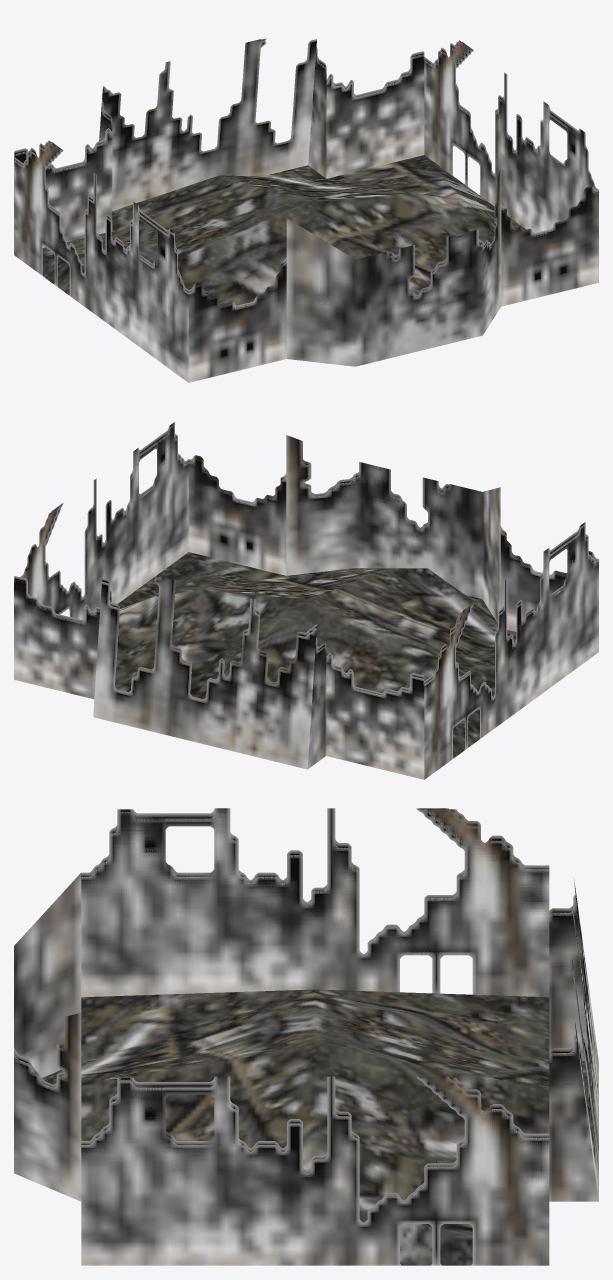
Rendered from centerlobby_dam.glb.
3 views of the same model, one above another, from view 1: azimuth 30°, elevation 25°; view 2: azimuth 150°, elevation 25°; view 3: azimuth 270°, elevation 25° (orthographic). The views are drawn at different scales.
Parts seen in each view (by area): view 1: con_inside, connector; view 2: connector, con_inside; view 3: connector, con_inside.
Part boxes in pixels (x1,y1,x2,y2): con_inside: (14, 38, 598, 382); connector: (14, 39, 598, 382); connector: (14, 425, 598, 779); con_inside: (14, 422, 598, 779); connector: (14, 808, 598, 1265); con_inside: (14, 809, 598, 1265).
Bounding box in the file's own units: 25.52 × 8.76 × 23.5.
2 materials, 2 textured.
